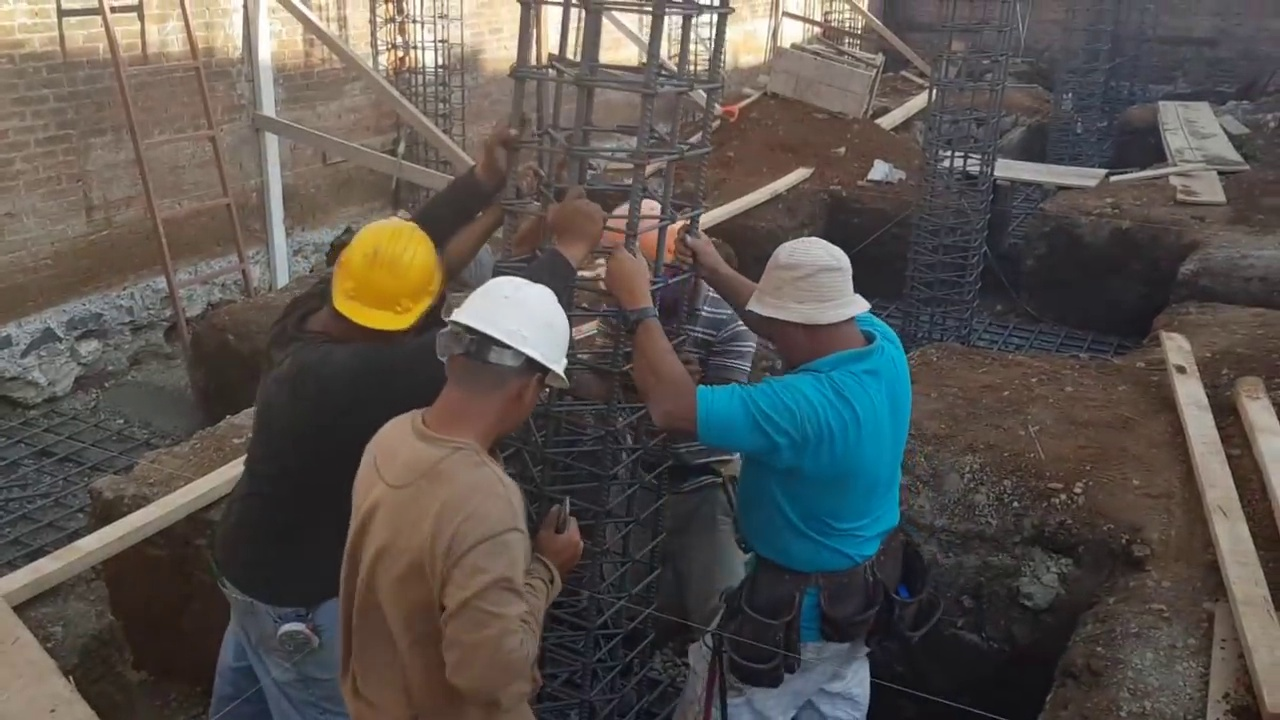helmet: (325, 211, 449, 326), (444, 282, 573, 382), (597, 197, 686, 251)
helmet-off: (734, 238, 868, 371)
helmet-on: (416, 280, 574, 450), (308, 210, 450, 364), (597, 196, 704, 322)
person: (210, 114, 531, 707), (589, 207, 910, 720), (332, 279, 574, 718), (598, 192, 758, 649)
